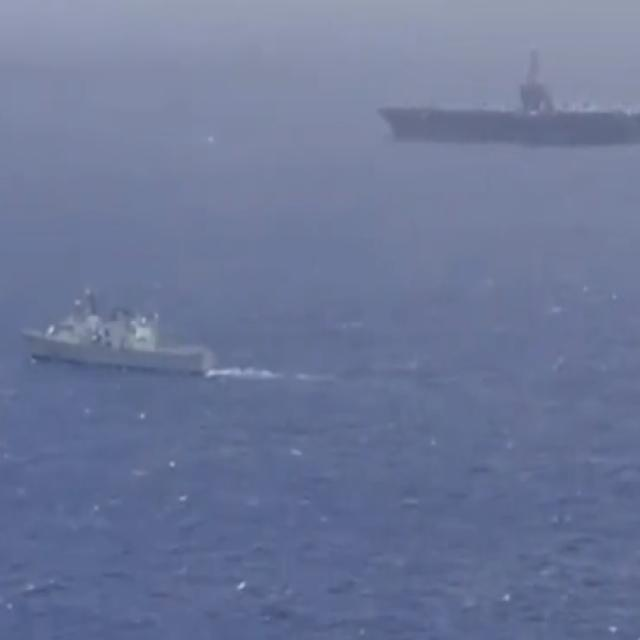navalvessels: (379, 43, 640, 152), (19, 287, 214, 372)
